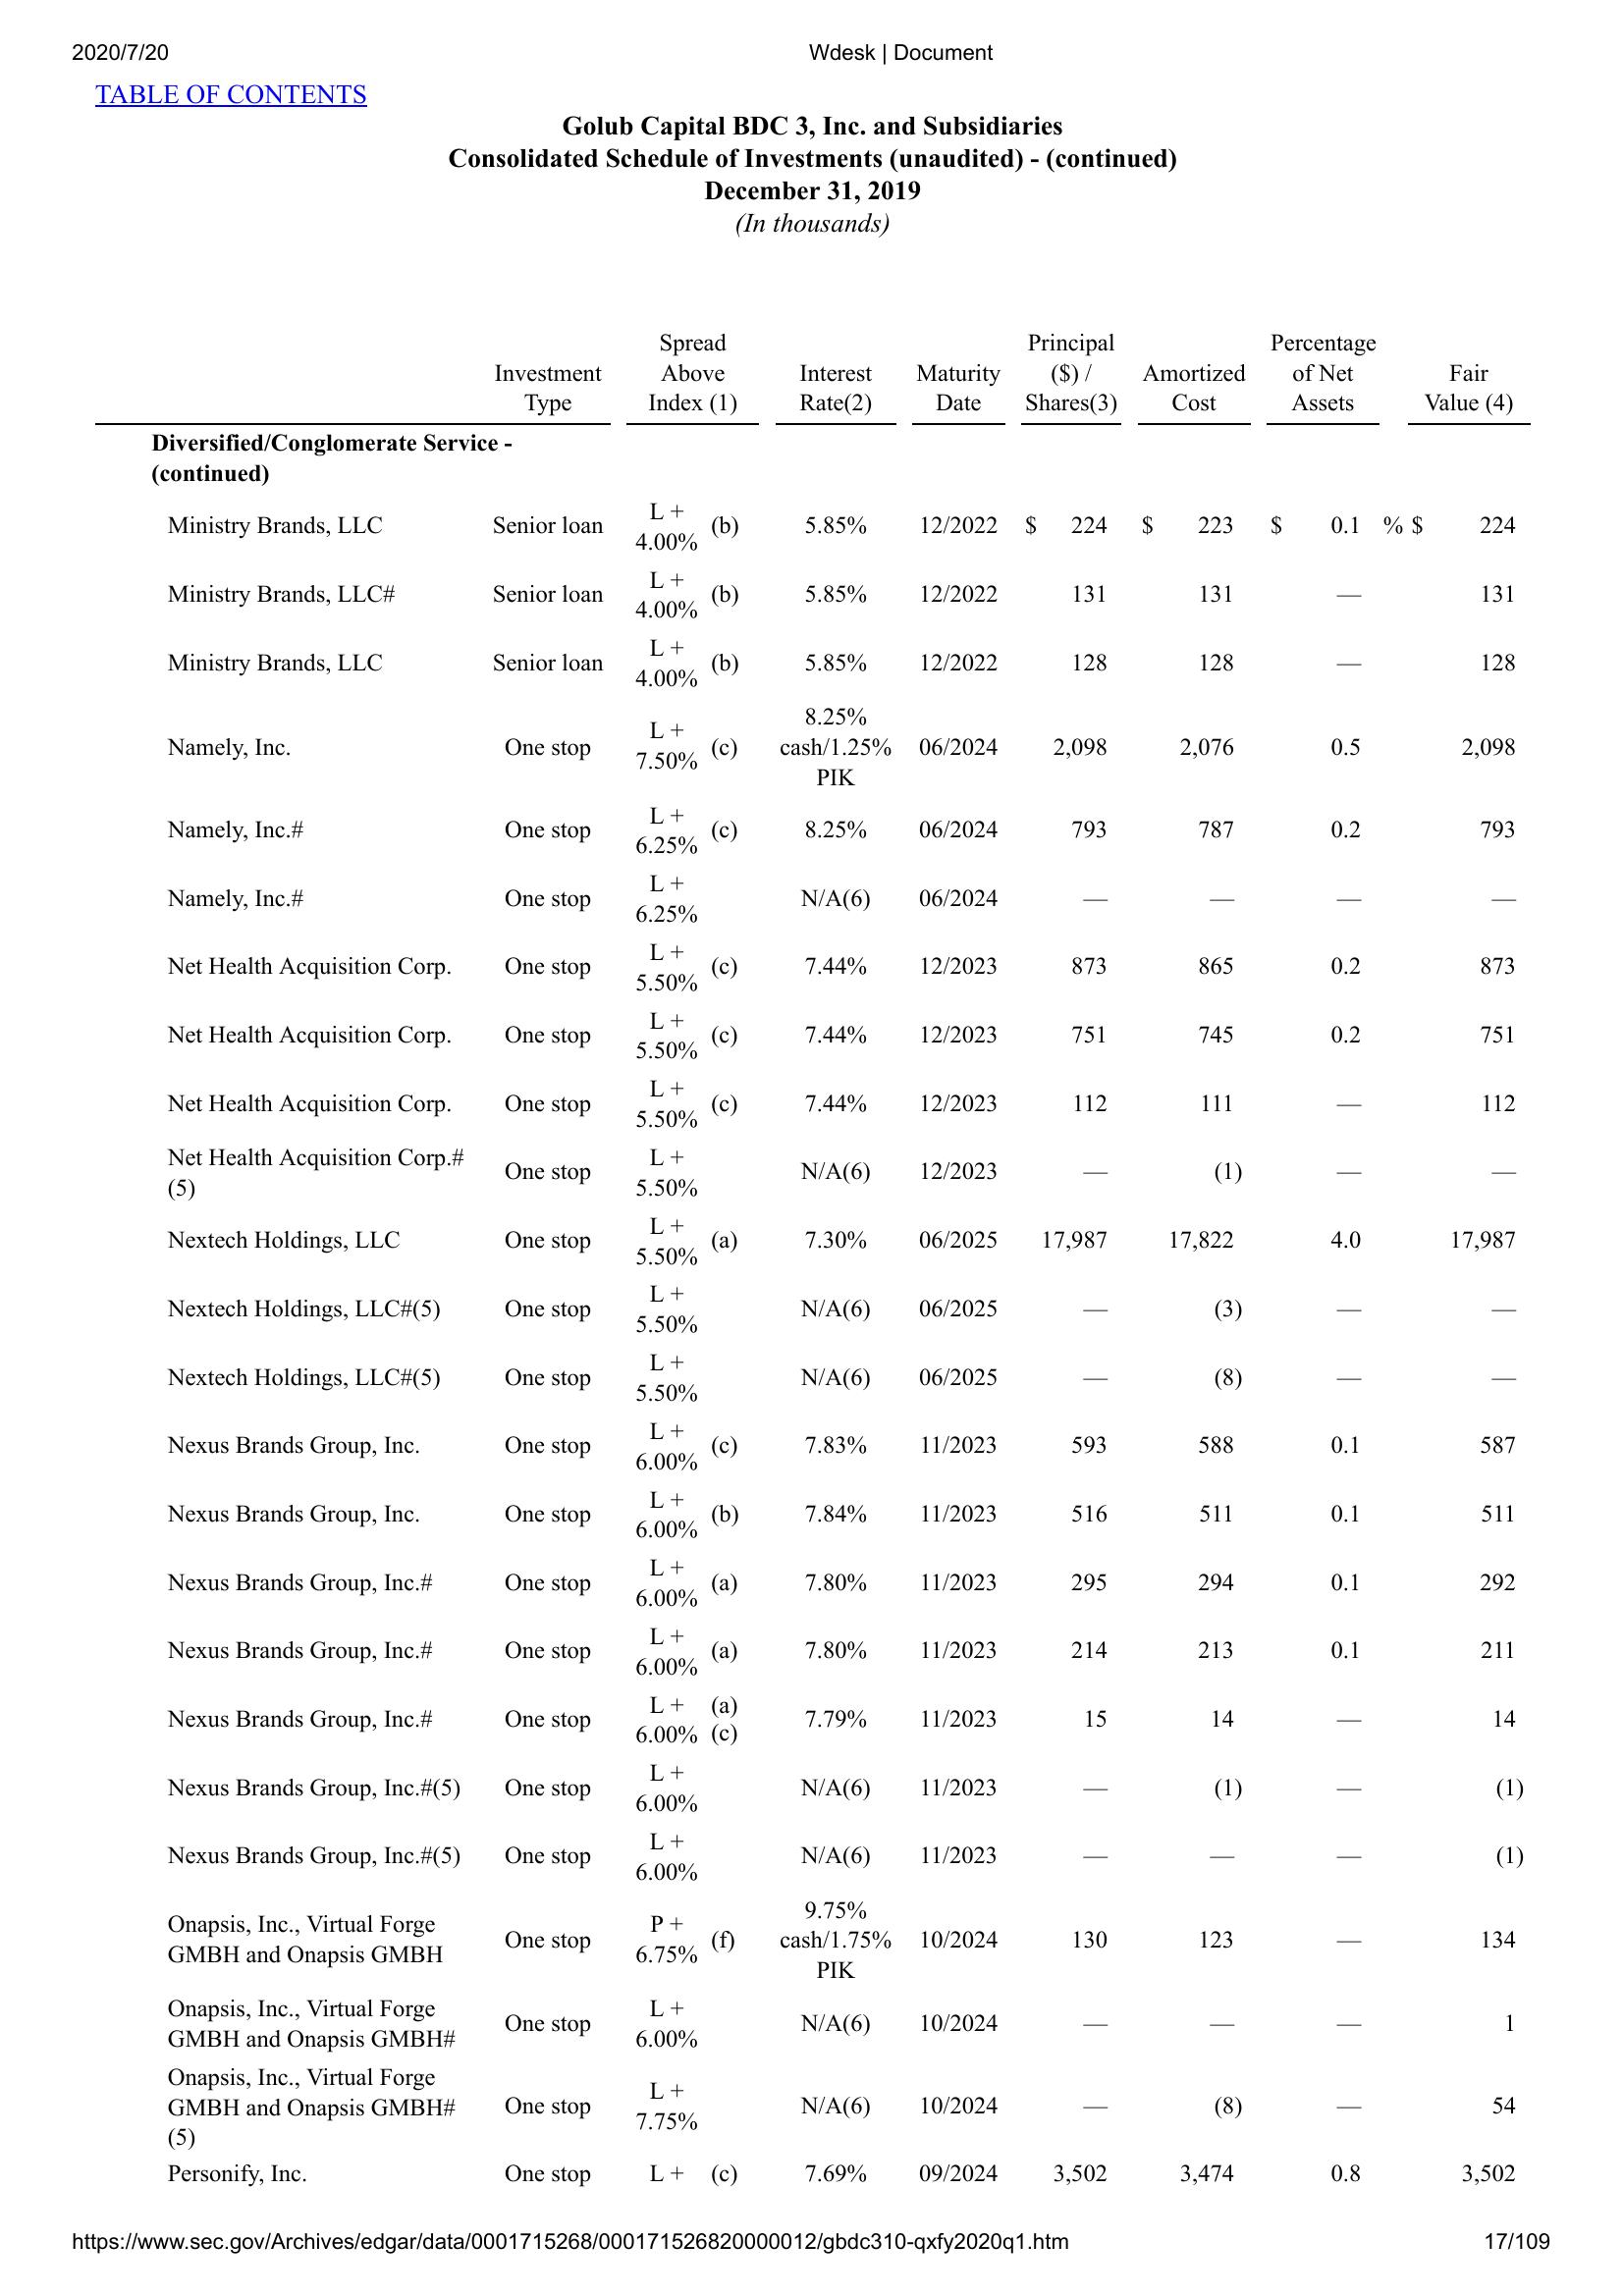table: (86, 316, 1542, 2199)
